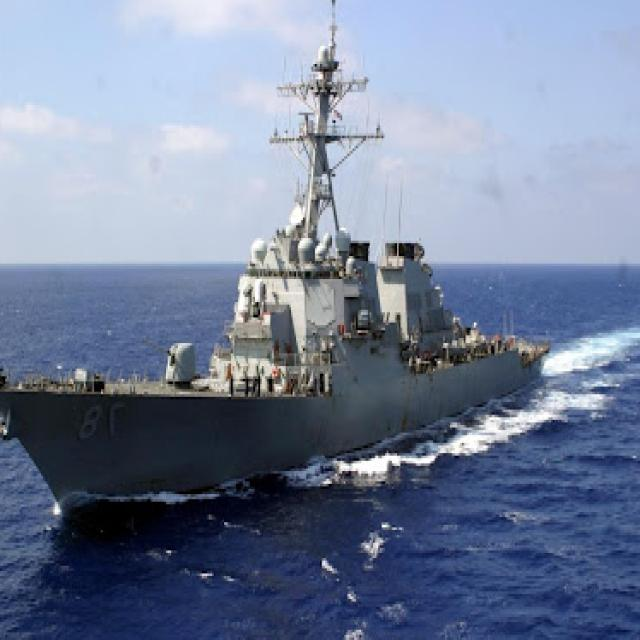navalvessels: (0, 25, 555, 524)
